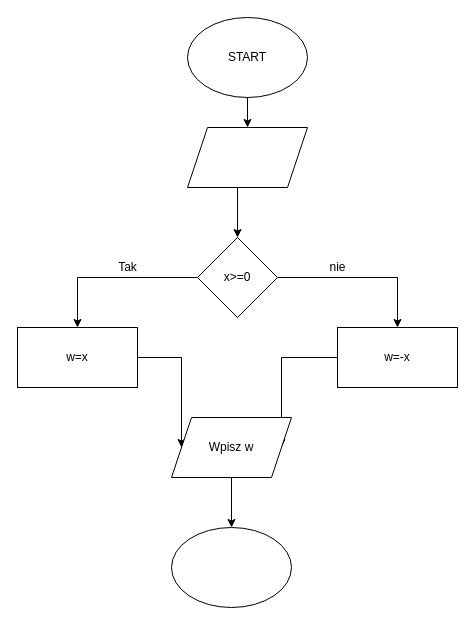
Some shapes in this 475 by 625 pixel diagram are drawn without their labels. Each missing label, with the centre of its shape:
"Pobierz:x" goes at point 247,157.
"STOP" goes at point 231,567.
